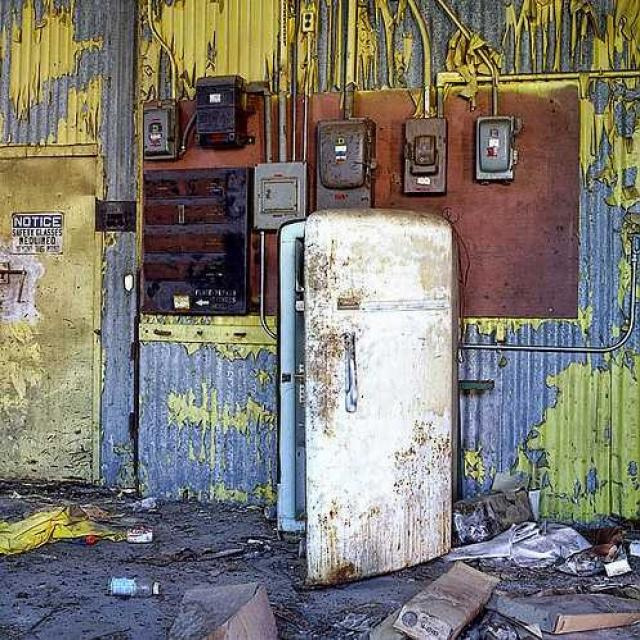refrigerator: (281, 212, 453, 562)
